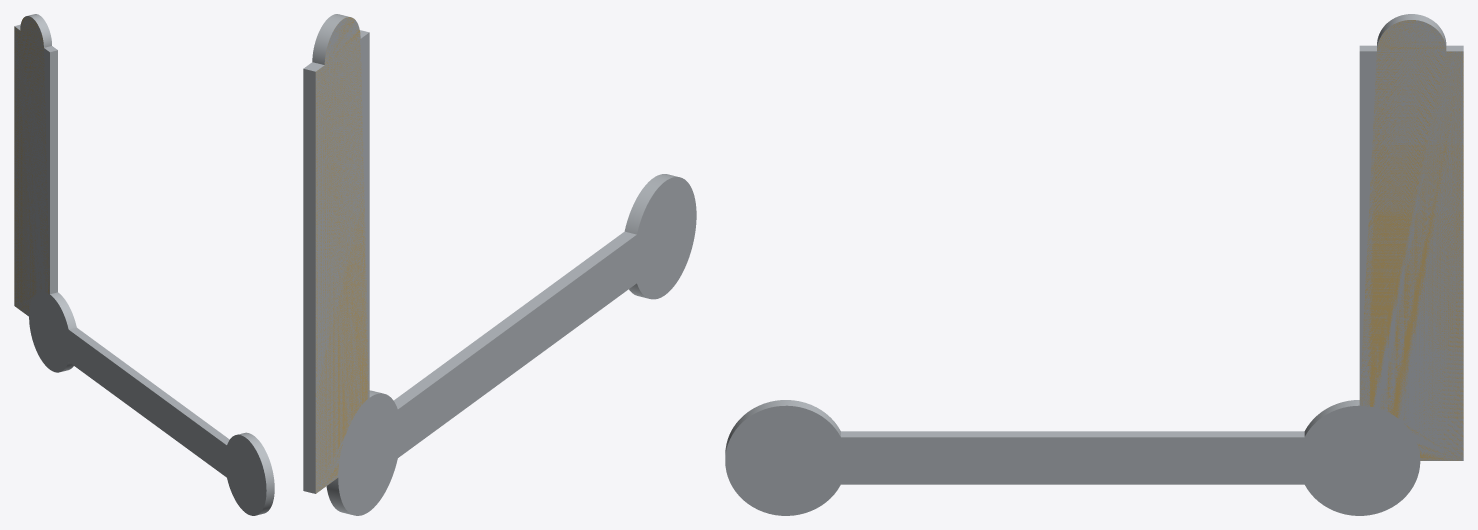
The model's file is step_02.glb.
The picture shows the model from 3 angles, left to right: view 1: azimuth 30°, elevation 25°; view 2: azimuth 150°, elevation 25°; view 3: azimuth 270°, elevation 25°; orthographic projection. The views are drawn at different scales.
Visible parts, largest first — view 1: part__spreader, added__spreader; view 2: part__spreader, added__spreader; view 3: part__spreader, added__spreader.
Part boxes in pixels (x1,y1,x2,y2): part__spreader: (14, 14, 274, 515); added__spreader: (14, 16, 49, 313); part__spreader: (303, 14, 696, 515); added__spreader: (315, 17, 368, 493); part__spreader: (725, 14, 1463, 515); added__spreader: (1360, 20, 1463, 460).
Bounding box in the file's own units: 8 × 315 × 425.
